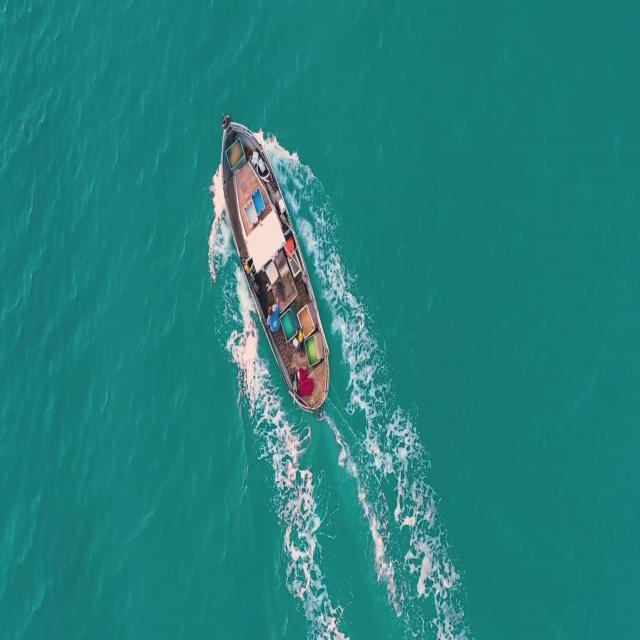ship: (218, 112, 338, 417)
